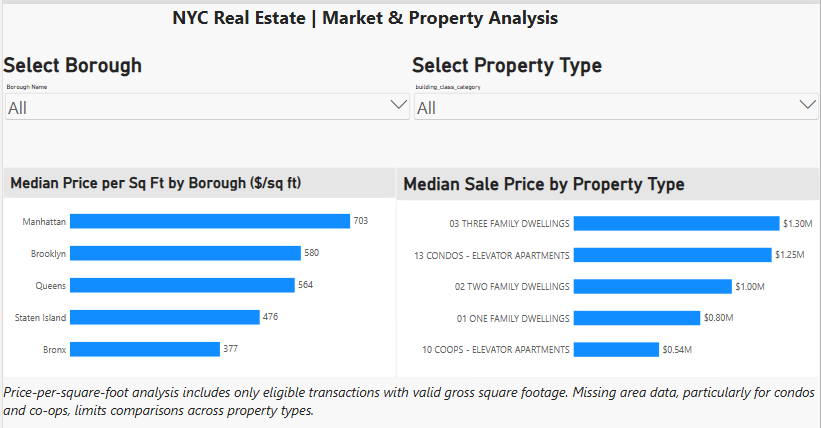

What the dashboard file says about the page in this screenshot:
{"tool":"powerbi","page":{"name":"Market & Property Analysis","canvas":[1920,1080],"ordinal":1},"visuals":[{"type":"clusteredBarChart","title":"Median Sale Price by Property Type","fields":{"Category":["real_estate_analytical.building_class_category"],"Y":["real_estate_analytical.Median Sale Price"]},"box":[923.6,383.1,996.4,495.9],"z":0},{"type":"slicer","title":"Select Borough","fields":{"Values":["real_estate_analytical.Borough Name"]},"box":[0,115.2,961.2,267.9],"z":1000},{"type":"clusteredBarChart","title":"Median Price per Sq Ft by Borough ($/sq ft)","fields":{"Category":["real_estate_analytical.Borough Name"],"Y":["real_estate_analytical.Median Price per Sq Ft"]},"box":[0,383.1,923.6,495.9],"z":2000},{"type":"slicer","title":"Select Property Type","fields":{"Values":["real_estate_analytical.building_class_category"]},"box":[961.2,115.2,961.2,267.9],"z":3000},{"type":"textbox","box":[47,0,1595.7,87],"z":3001},{"type":"textbox","box":[0,888.3,1920,192.7],"z":3002}]}

Visuals, with their boxes on the page's 1920x1080 design canvas (x1, y1, x2, y2). These are canvas units, not pixel positions in the 821x428 screenshot, which may show the page scaled, cropped or inside an application window:
"Median Sale Price by Property Type" clusteredBarChart: Rect(924, 383, 1920, 879)
"Select Borough" slicer: Rect(0, 115, 961, 383)
"Median Price per Sq Ft by Borough ($/sq ft)" clusteredBarChart: Rect(0, 383, 924, 879)
"Select Property Type" slicer: Rect(961, 115, 1922, 383)
textbox: Rect(47, 0, 1643, 87)
textbox: Rect(0, 888, 1920, 1081)
